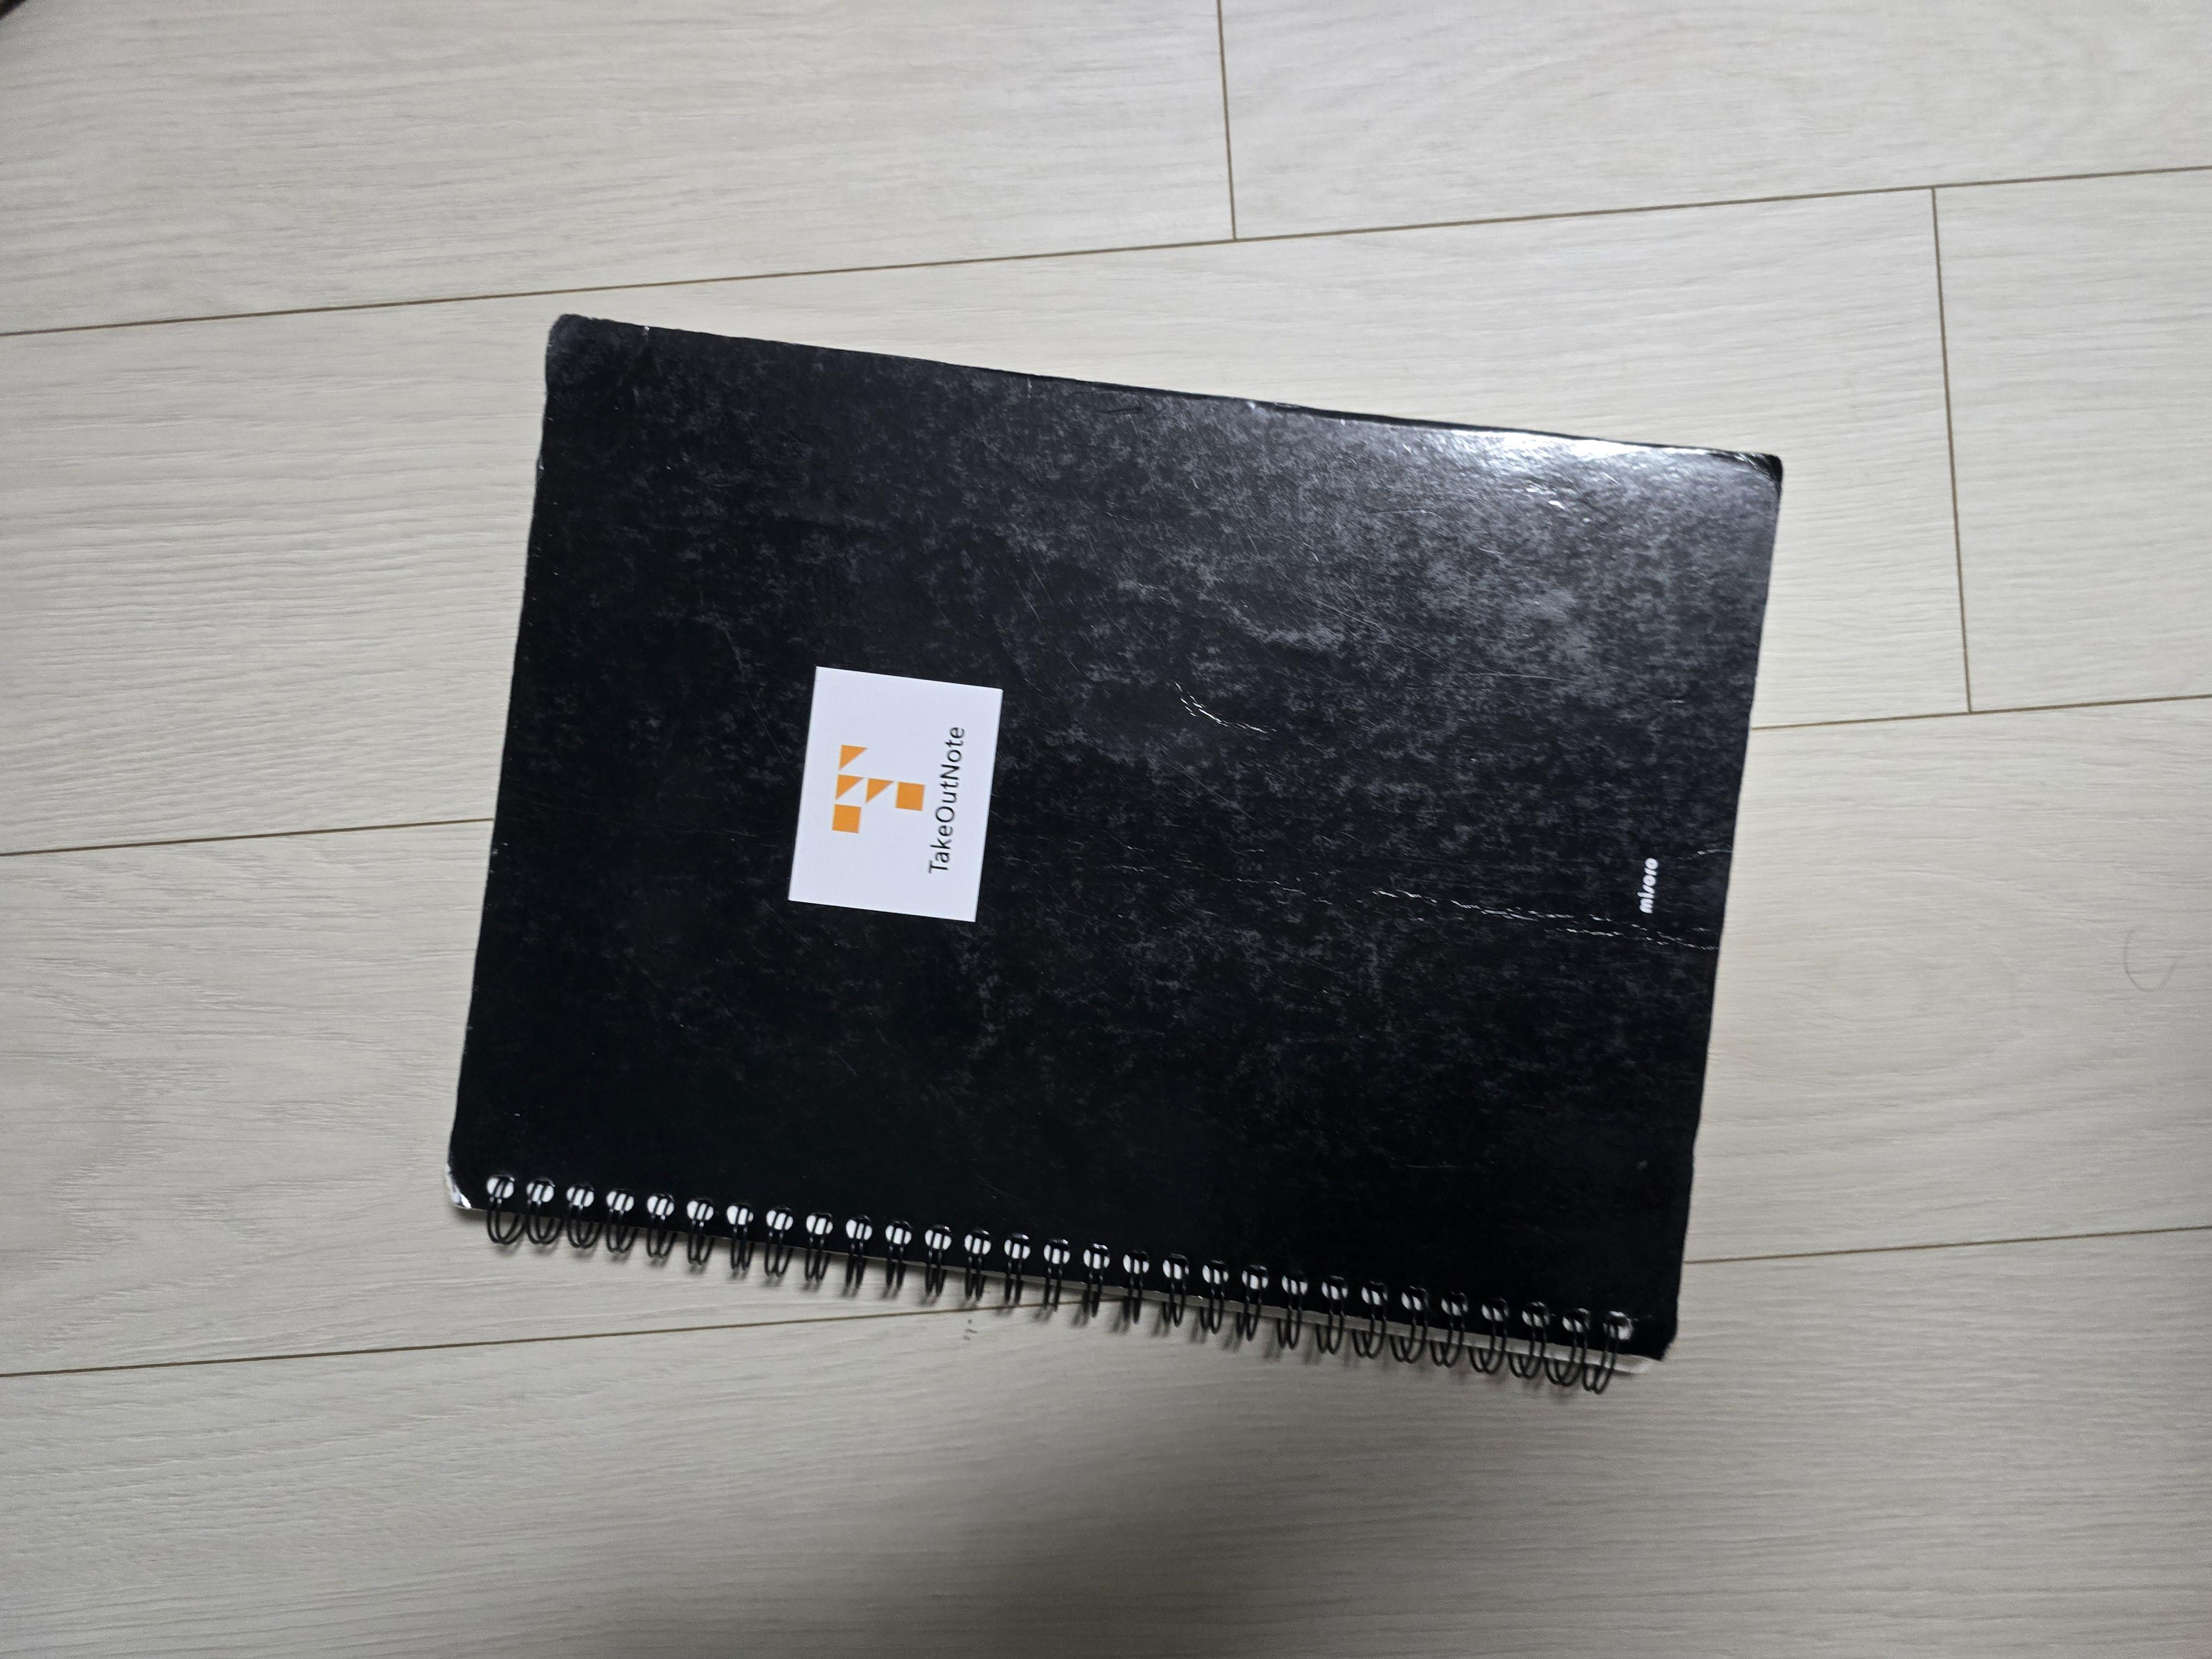book: (445, 310, 1784, 1373)
